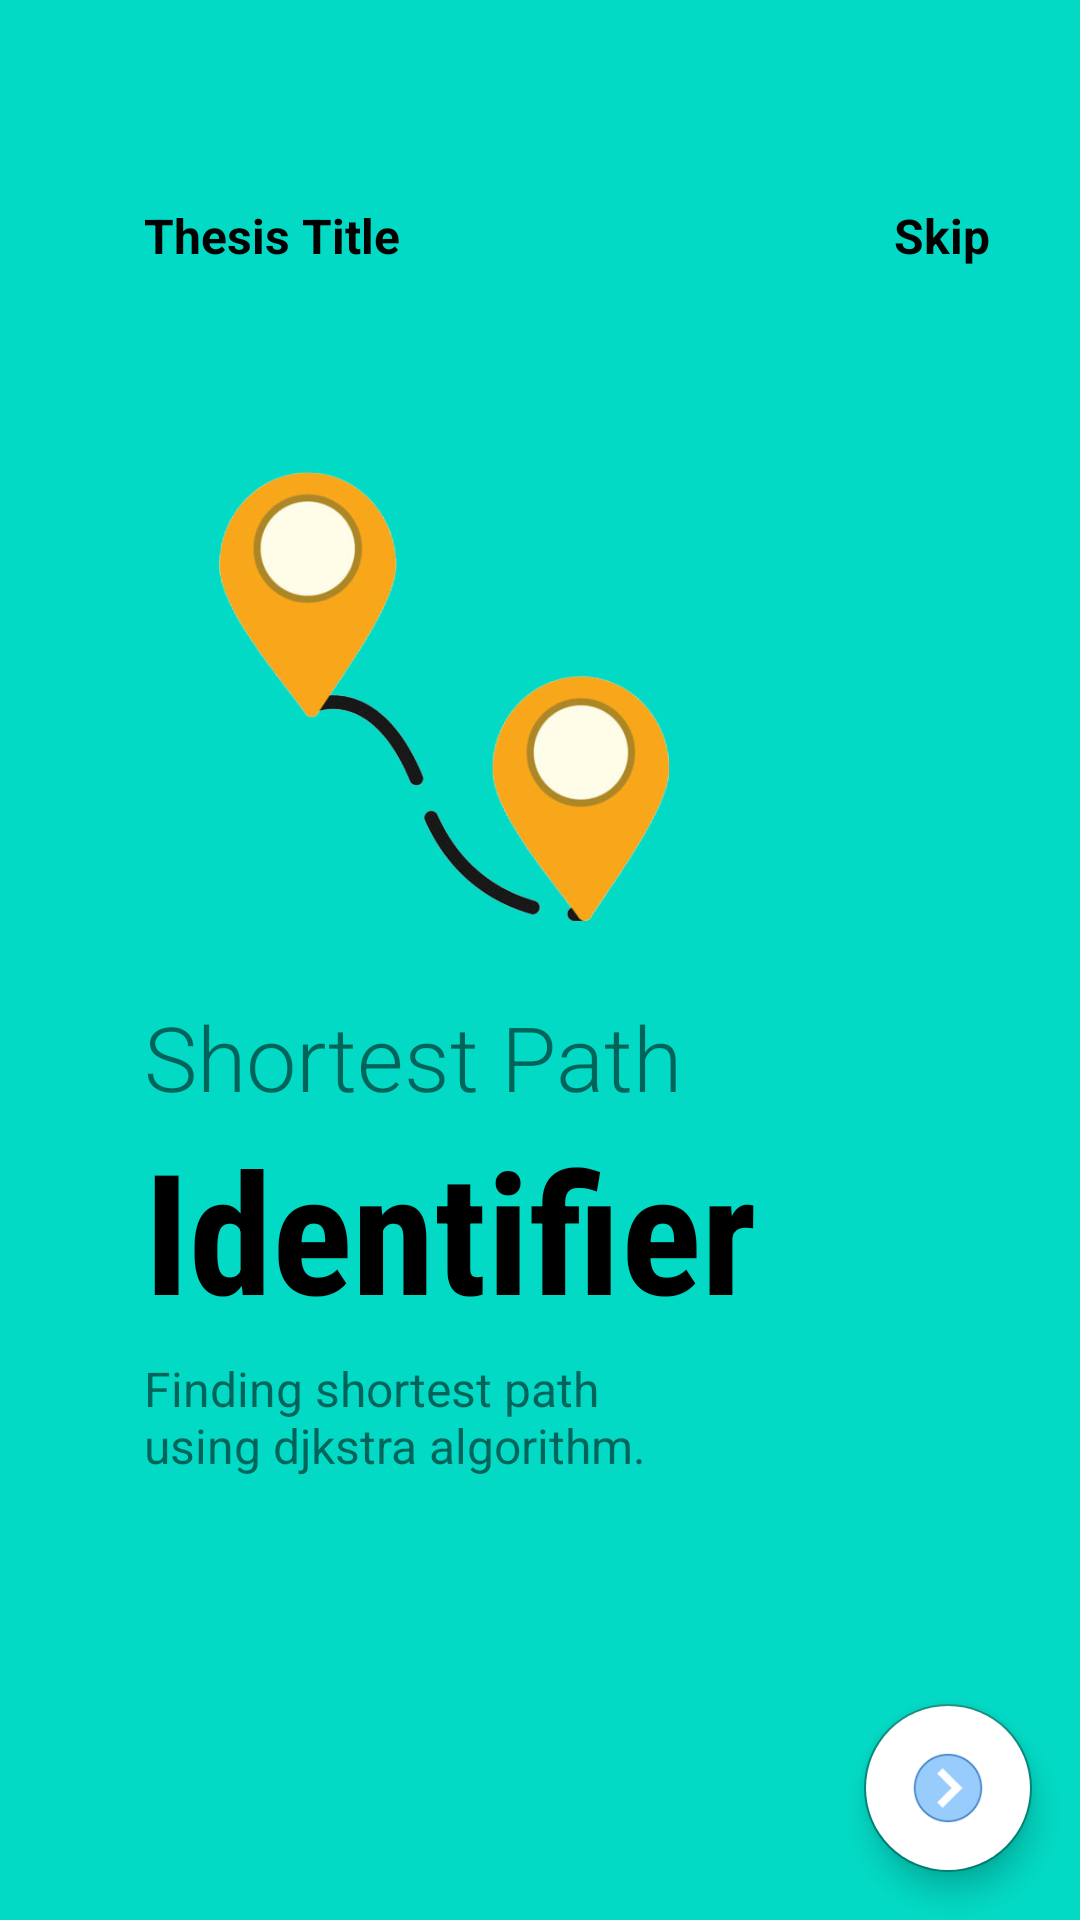

Named icons in this screenshot (1080px×1920px) and their bounding boxes, (x1, y1, x2, y2):
next page: (864, 1704, 1032, 1872)
